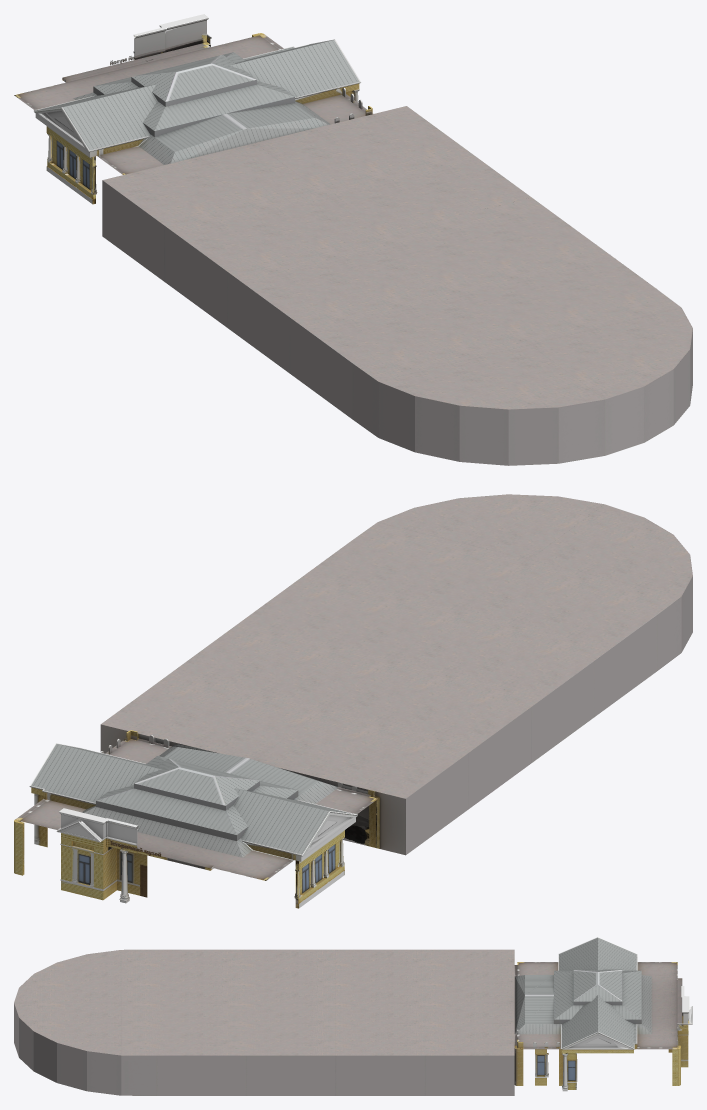
Rendered from HistoricalMuseum_prep_his_h+his_l.gltf.
3 renders of one model, top to bottom at view 1: azimuth 30°, elevation 25°; view 2: azimuth 150°, elevation 25°; view 3: azimuth 270°, elevation 25°, orthographic. The views are drawn at different scales.
Visible parts, largest first — view 1: 4eae8c35-78ae-4cdc-a969-1b04142f8481; view 2: 4eae8c35-78ae-4cdc-a969-1b04142f8481; view 3: 4eae8c35-78ae-4cdc-a969-1b04142f8481.
Boxes of the visible parts, <box> form: 4eae8c35-78ae-4cdc-a969-1b04142f8481: <box>14,14,692,465</box>; 4eae8c35-78ae-4cdc-a969-1b04142f8481: <box>14,494,692,908</box>; 4eae8c35-78ae-4cdc-a969-1b04142f8481: <box>14,937,692,1095</box>.
Bounding box in the file's own units: 19.25 × 5.4 × 52.05.
Materials: 2 (2 with a texture image).
